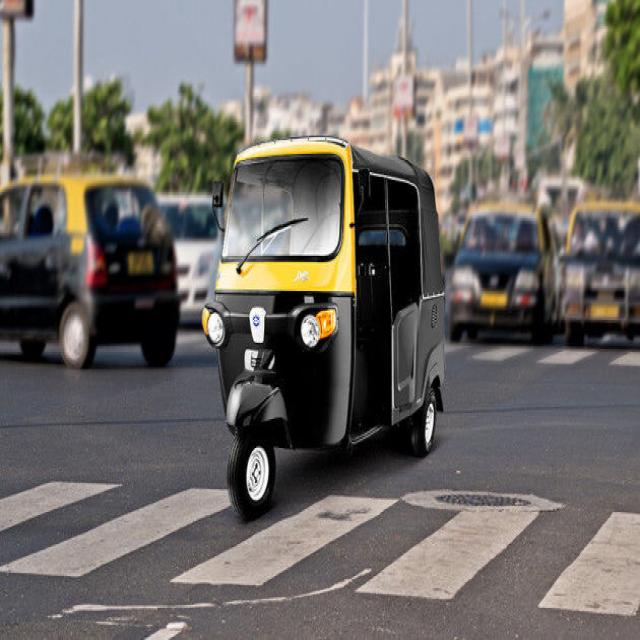autorickshaw: (201, 139, 445, 518)
car: (0, 176, 179, 367), (450, 202, 557, 343)
